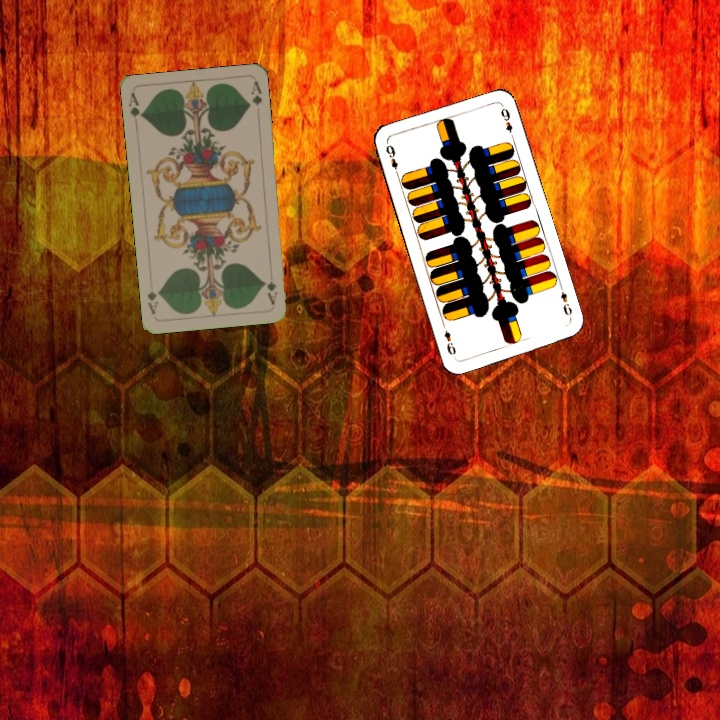E9: (382, 139, 401, 179), (556, 283, 575, 322)
GA: (125, 90, 146, 121), (263, 277, 280, 307)
